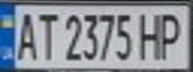2: (60, 9, 84, 62)
3: (78, 10, 100, 62)
5: (115, 10, 139, 61)
7: (97, 10, 118, 61)
A: (12, 8, 39, 61)
H: (136, 9, 166, 61)
P: (154, 9, 187, 61)
T: (33, 9, 60, 62)
